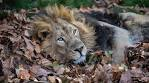lion: (36, 9, 147, 66)
